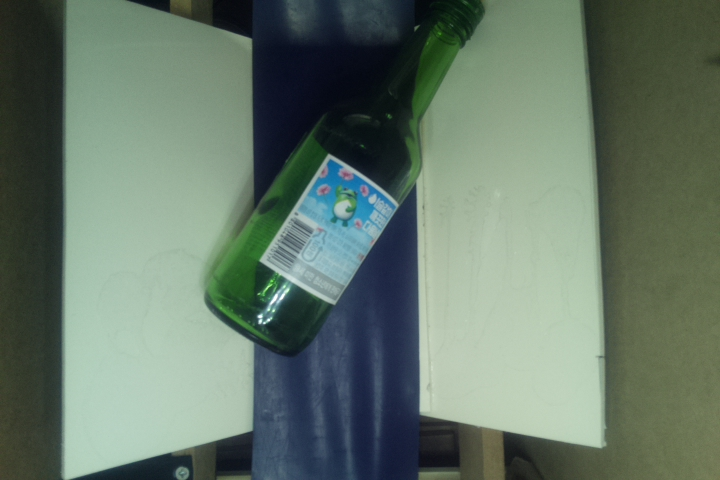soju: (203, 1, 485, 357)
